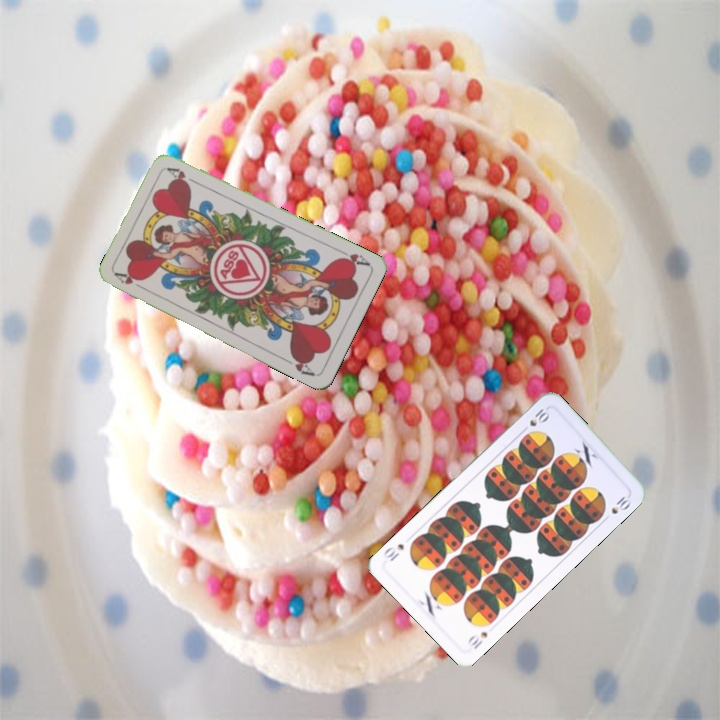HA: (111, 268, 150, 293), (333, 245, 372, 269)
S10: (525, 404, 553, 429), (464, 627, 490, 652)
